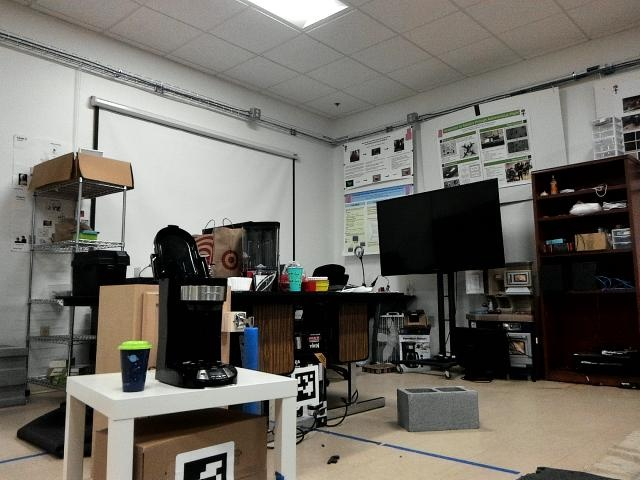coffee_cup: (287, 264, 305, 290)
noodle_handle: (240, 323, 262, 371)
useless_cup: (119, 338, 152, 393)
